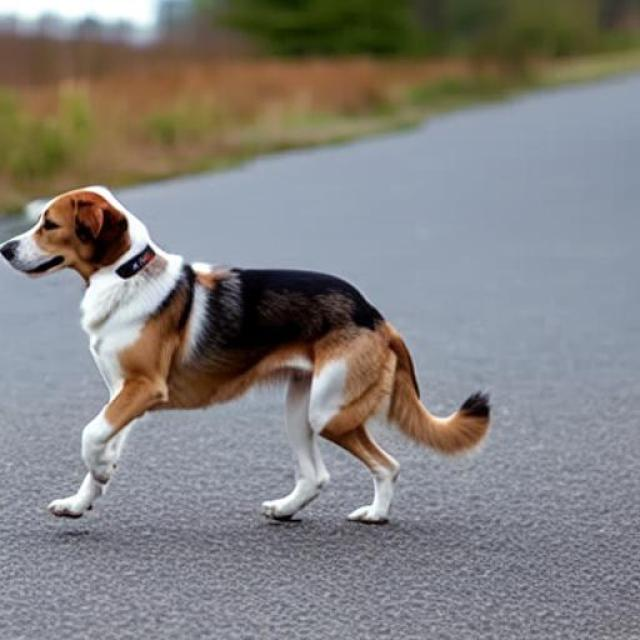Dog: (0, 185, 491, 524)
